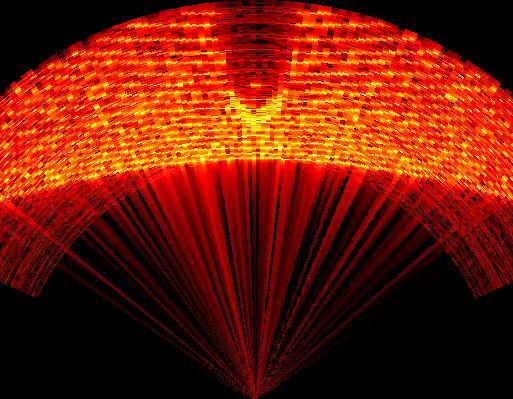box_crate: (222, 4, 300, 136)
